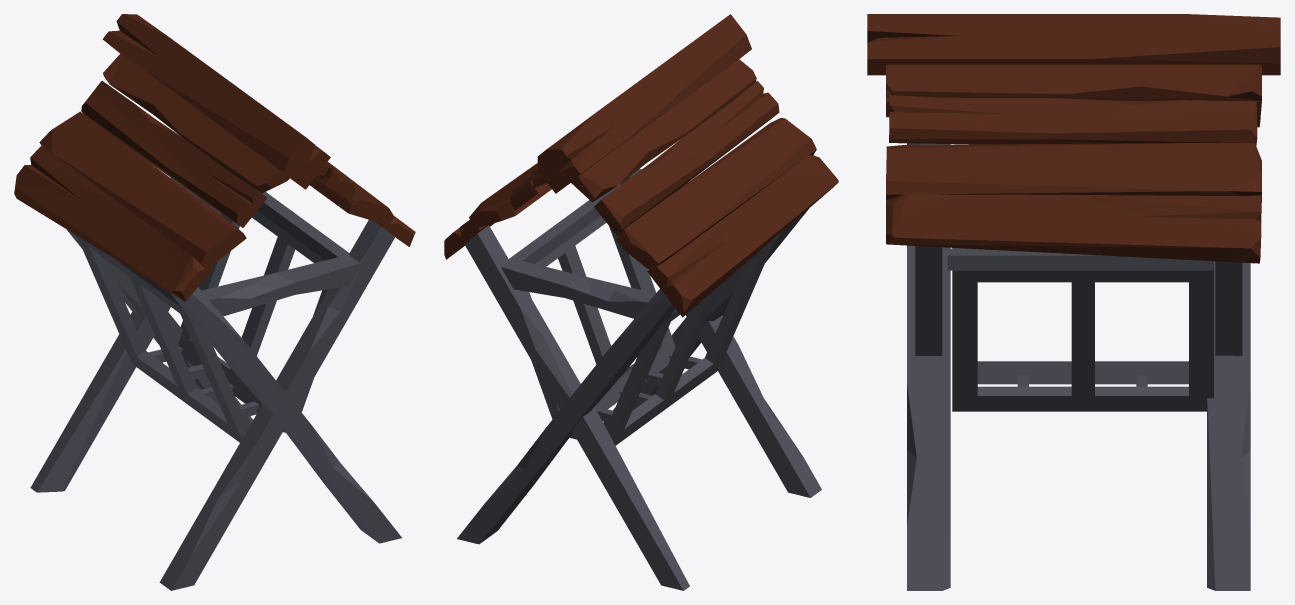
File: Feeder_1.fbx
3 renders of one model, left to right at view 1: azimuth 30°, elevation 25°; view 2: azimuth 150°, elevation 25°; view 3: azimuth 270°, elevation 25°, orthographic. The views are drawn at different scales.
Visible parts, largest first — view 1: Feeder_1; view 2: Feeder_1; view 3: Feeder_1.
Part boxes in pixels (left/top/right/bottom): Feeder_1: left=14, top=14, right=415, bottom=590; Feeder_1: left=444, top=14, right=838, bottom=590; Feeder_1: left=867, top=14, right=1280, bottom=590.
Size of the model in its own units: 34.8 by 58.29 by 42.63.
